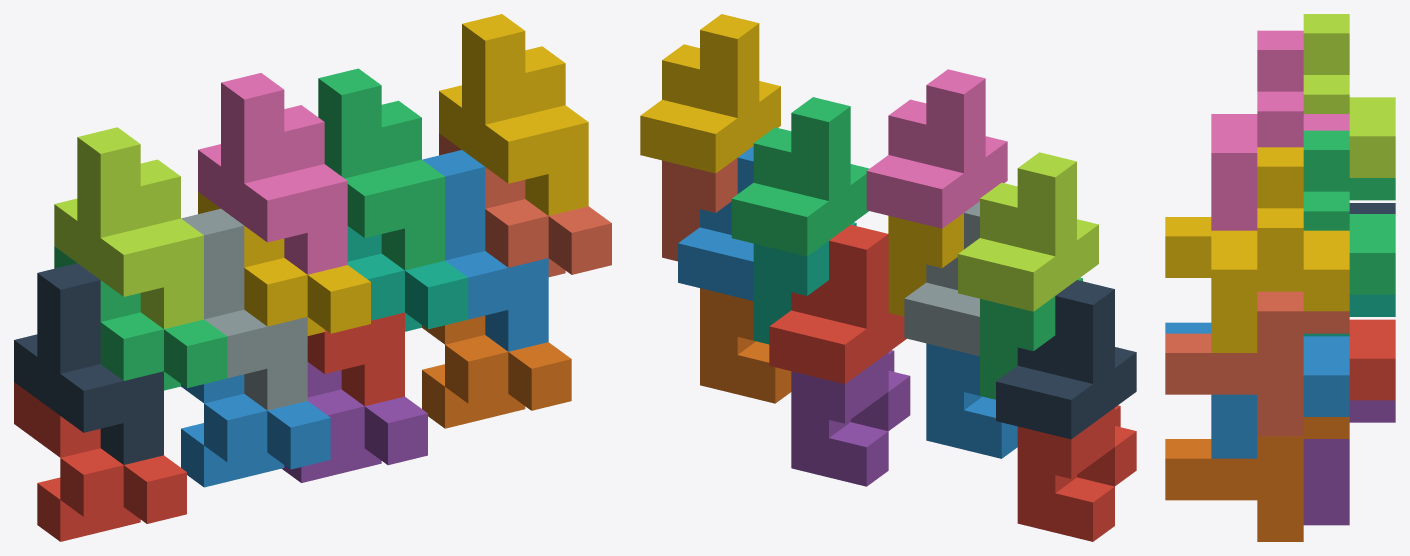
Rendered from tiling.obj.
The picture shows the model from 3 angles, left to right: view 1: azimuth 30°, elevation 25°; view 2: azimuth 150°, elevation 25°; view 3: azimuth 270°, elevation 25°; orthographic projection. The views are drawn at different scales.
Visible parts, largest first — view 1: copy_2_domain_8, copy_2_domain_4, copy_2_domain_3, copy_2_domain_7, copy_2_domain_1, copy_1_domain_1, copy_2_domain_6, copy_2_domain_2, copy_1_domain_6, copy_1_domain_2, copy_1_domain_3, copy_1_domain_4 (+4 smaller); view 2: copy_2_domain_4, copy_2_domain_3, copy_2_domain_8, copy_2_domain_7, copy_2_domain_1, copy_2_domain_5, copy_1_domain_1, copy_1_domain_5, copy_1_domain_2, copy_1_domain_6, copy_2_domain_6, copy_2_domain_2 (+4 smaller); view 3: copy_2_domain_8, copy_1_domain_8, copy_2_domain_4, copy_1_domain_6, copy_2_domain_7, copy_2_domain_3, copy_2_domain_6, copy_1_domain_5, copy_2_domain_5, copy_1_domain_4, copy_1_domain_7, copy_1_domain_3 (+2 smaller).
Part boxes in pixels (<box>): copy_2_domain_8: <box>439,14,588,215</box>; copy_2_domain_4: <box>198,73,347,274</box>; copy_2_domain_3: <box>54,127,203,328</box>; copy_2_domain_7: <box>318,68,444,270</box>; copy_2_domain_1: <box>14,263,163,464</box>; copy_1_domain_1: <box>14,382,186,541</box>; copy_2_domain_6: <box>422,150,548,351</box>; copy_2_domain_2: <box>181,208,307,410</box>; copy_1_domain_6: <box>422,315,571,428</box>; copy_1_domain_2: <box>181,374,330,487</box>; copy_1_domain_3: <box>54,246,227,390</box>; copy_1_domain_4: <box>198,192,370,335</box>; copy_2_domain_4: <box>866,69,1007,228</box>; copy_2_domain_3: <box>958,152,1098,311</box>; copy_2_domain_8: <box>640,14,780,173</box>; copy_2_domain_7: <box>731,97,869,256</box>; copy_2_domain_1: <box>996,280,1136,439</box>; copy_2_domain_5: <box>769,225,906,383</box>; copy_1_domain_1: <box>1017,405,1136,541</box>; copy_1_domain_5: <box>791,350,910,486</box>; copy_1_domain_2: <box>926,343,1017,458</box>; copy_1_domain_6: <box>700,288,791,403</box>; copy_2_domain_6: <box>678,146,753,300</box>; copy_2_domain_2: <box>904,201,979,356</box>; copy_2_domain_8: <box>1211,147,1349,352</box>; copy_1_domain_8: <box>1165,291,1349,436</box>; copy_2_domain_4: <box>1211,30,1349,230</box>; copy_1_domain_6: <box>1165,417,1349,541</box>; copy_2_domain_7: <box>1303,130,1395,294</box>; copy_2_domain_3: <box>1303,14,1395,177</box>; copy_2_domain_6: <box>1211,336,1349,458</box>; copy_1_domain_5: <box>1303,400,1395,525</box>; copy_2_domain_5: <box>1349,319,1395,400</box>; copy_1_domain_4: <box>1165,217,1211,277</box>; copy_1_domain_7: <box>1303,294,1395,336</box>; copy_1_domain_3: <box>1349,178,1395,200</box>.
Bounding box in the file's own units: 12 × 10 × 5.
